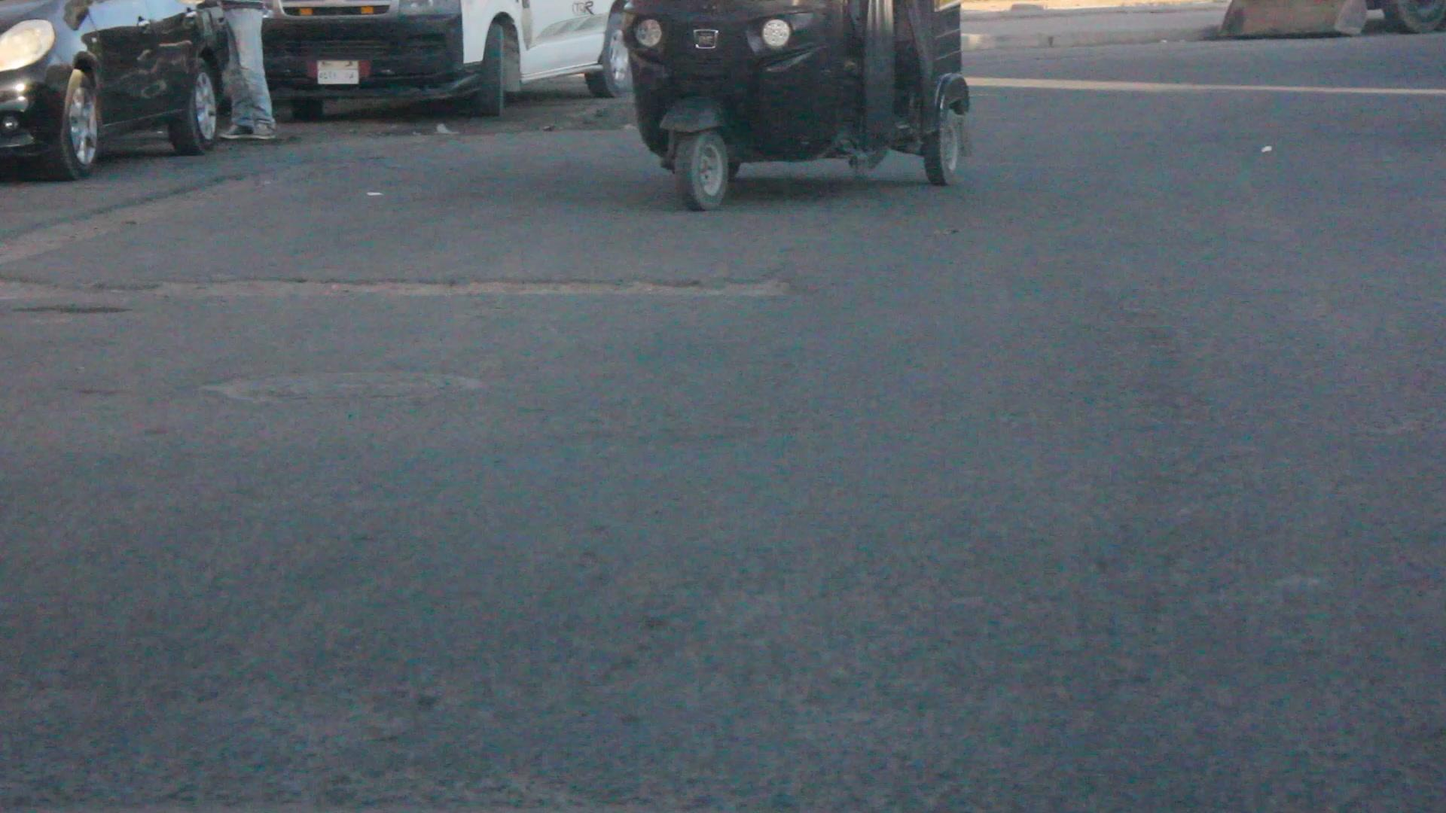Pothole: (21, 233, 802, 314)
